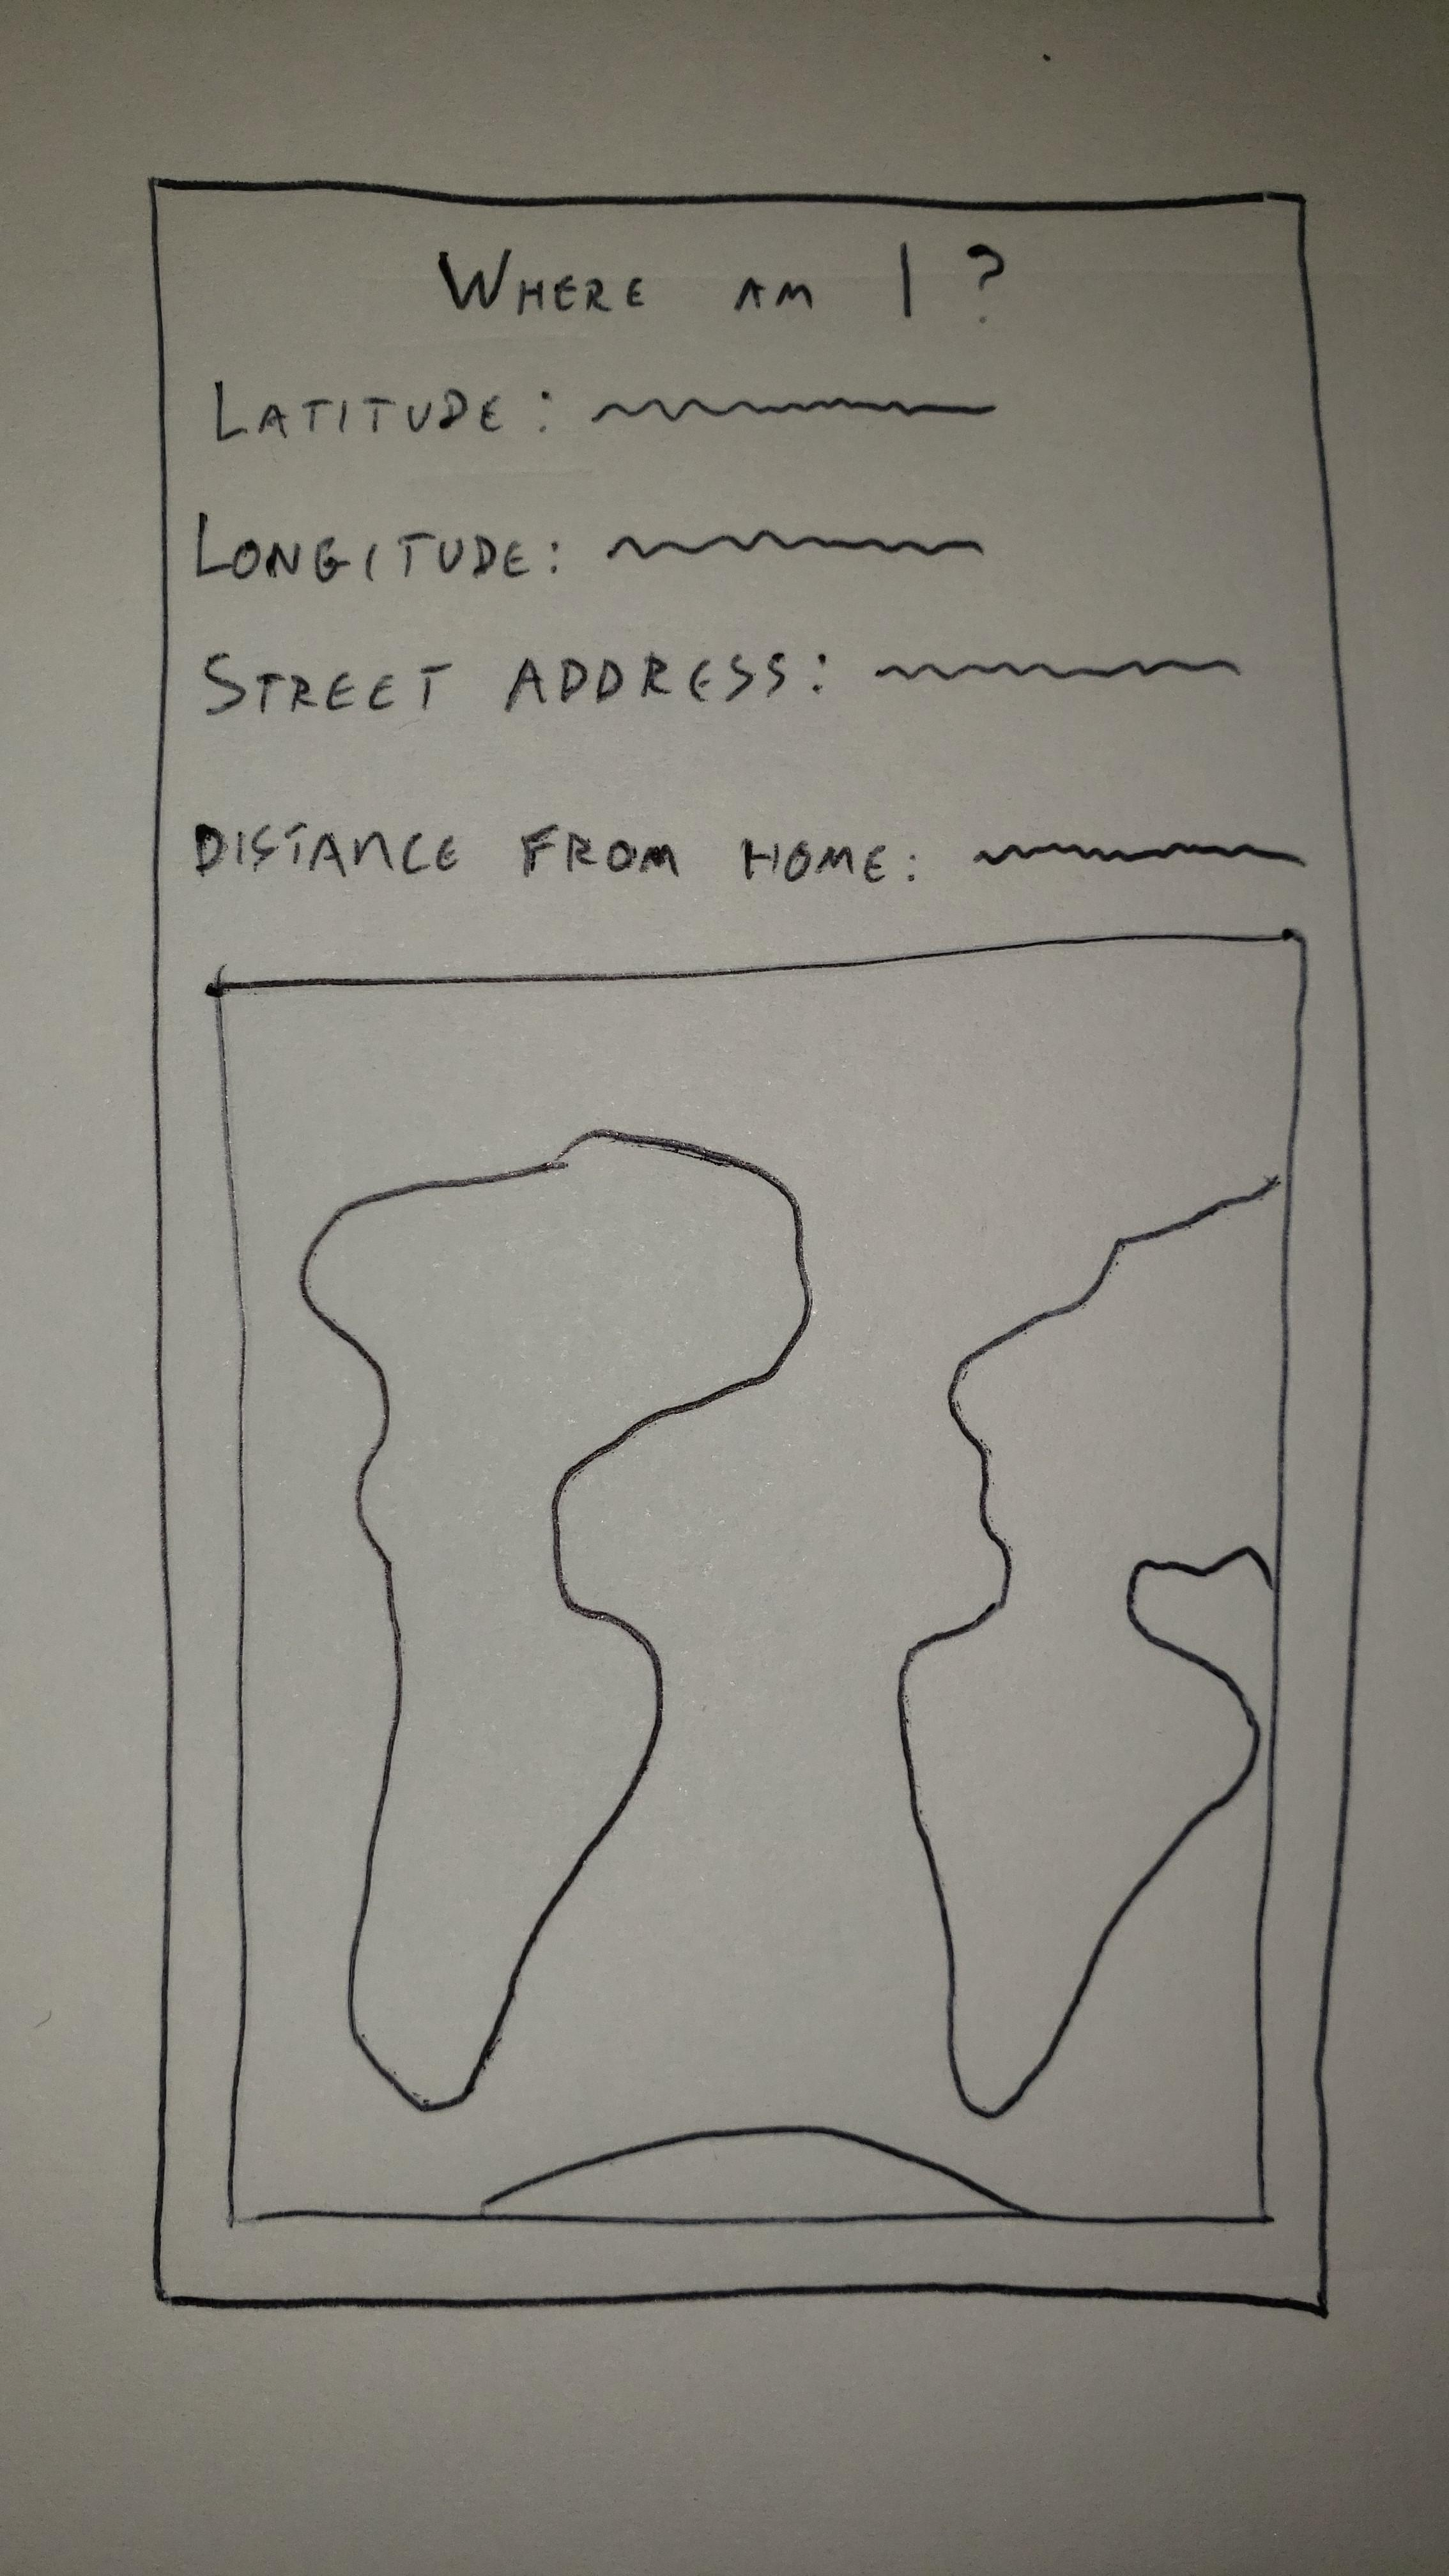Label: (188, 817, 922, 895), (433, 239, 1008, 326), (195, 644, 833, 720), (189, 506, 564, 587), (203, 372, 557, 449), (602, 522, 991, 566), (591, 387, 1001, 428), (970, 837, 1306, 874), (870, 653, 1240, 683)
Map: (216, 934, 1311, 2227)
Screen: (142, 173, 1373, 2314)
